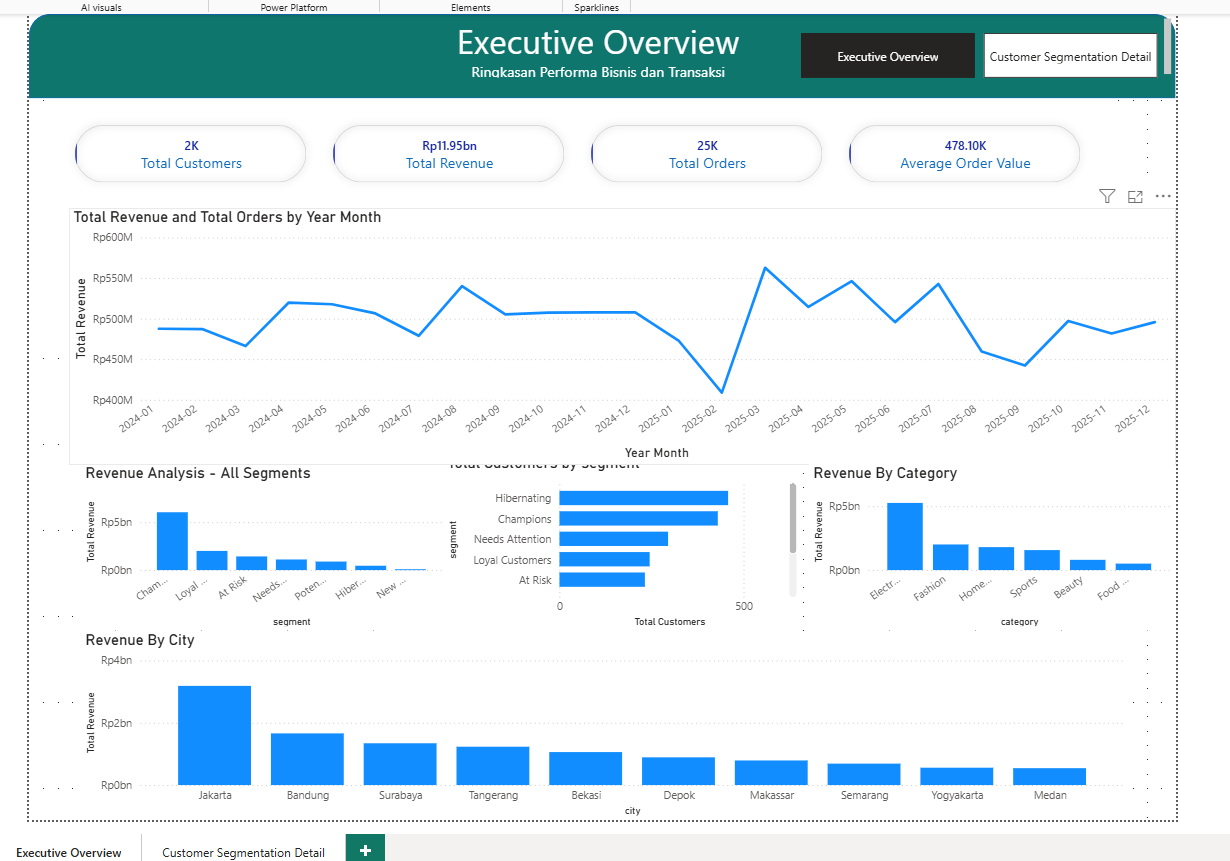

What the dashboard file says about the page in this screenshot:
{"tool":"powerbi","page":{"name":"Executive Overview","canvas":[1280,900],"ordinal":0},"visuals":[{"type":"shape","box":[0,0,1279.7,94.2],"z":0},{"type":"textbox","box":[0,187,1280,150],"z":1000},{"type":"textbox","box":[0,0,1280,75.6],"z":1001},{"type":"cardVisual","fields":{"Data":["customer_segments.Total Customers","customer_segments.Total Revenue","customer_segments.Total Orders","customer_segments.Average Order Value"]},"box":[23.1,96,1180.4,120.9],"z":1002},{"type":"clusteredBarChart","fields":{"Category":["customer_segments.segment"],"Y":["customer_segments.Total Customers"]},"box":[462.1,491.2,399.6,197.6],"z":1003},{"type":"clusteredColumnChart","fields":{"Category":["customer_segments.segment"],"Y":["customer_segments.Total Revenue"]},"box":[58,502.3,408.6,186.4],"z":1004},{"type":"lineChart","fields":{"Y":["customer_segments.Total Revenue"],"Category":["DimDate.Year Month"]},"box":[44.2,217,1236.5,286.1],"z":1005},{"type":"clusteredColumnChart","title":"Revenue By Category","fields":{"Y":["customer_segments.Total Revenue"],"Category":["transactions_clean.category"]},"box":[870.7,502.3,408.6,186.4],"z":1006},{"type":"clusteredColumnChart","title":"Revenue By City","fields":{"Y":["customer_segments.Total Revenue"],"Category":["customer_segments.city"]},"box":[58,688.7,1169.9,211],"z":1007},{"type":"pageNavigator","box":[861.8,21.2,399.6,50.2],"z":1008}]}

Visuals, with their boxes on the page's 1280x900 design canvas (x1, y1, x2, y2). These are canvas units, not pixel positions in the 1230x861 screenshot, which may show the page scaled, cropped or inside an application window:
shape: locate(0, 0, 1280, 94)
textbox: locate(0, 187, 1280, 337)
textbox: locate(0, 0, 1280, 76)
cardVisual - customer_segments.Total Customers x customer_segments.Total Revenue: locate(23, 96, 1204, 217)
clusteredBarChart - customer_segments.segment x customer_segments.Total Customers: locate(462, 491, 862, 689)
clusteredColumnChart - customer_segments.segment x customer_segments.Total Revenue: locate(58, 502, 467, 689)
lineChart - customer_segments.Total Revenue x DimDate.Year Month: locate(44, 217, 1281, 503)
"Revenue By Category" clusteredColumnChart: locate(871, 502, 1279, 689)
"Revenue By City" clusteredColumnChart: locate(58, 689, 1228, 900)
pageNavigator: locate(862, 21, 1261, 71)
